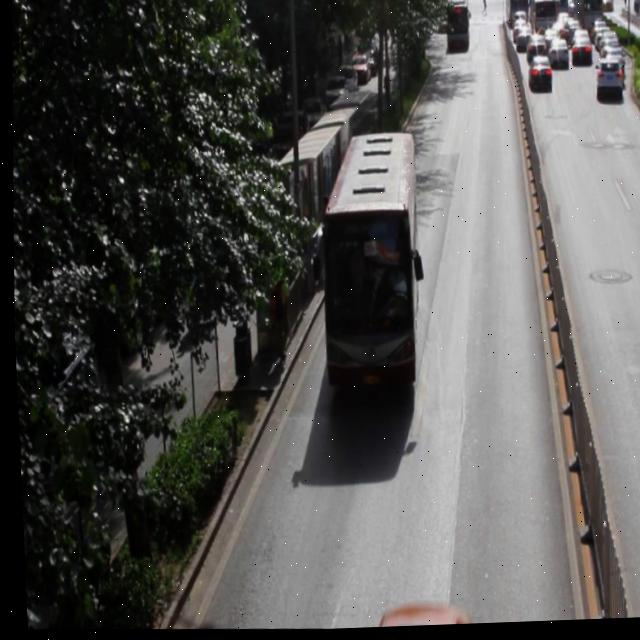car: (369, 600, 468, 630)
van: (313, 132, 422, 394)
